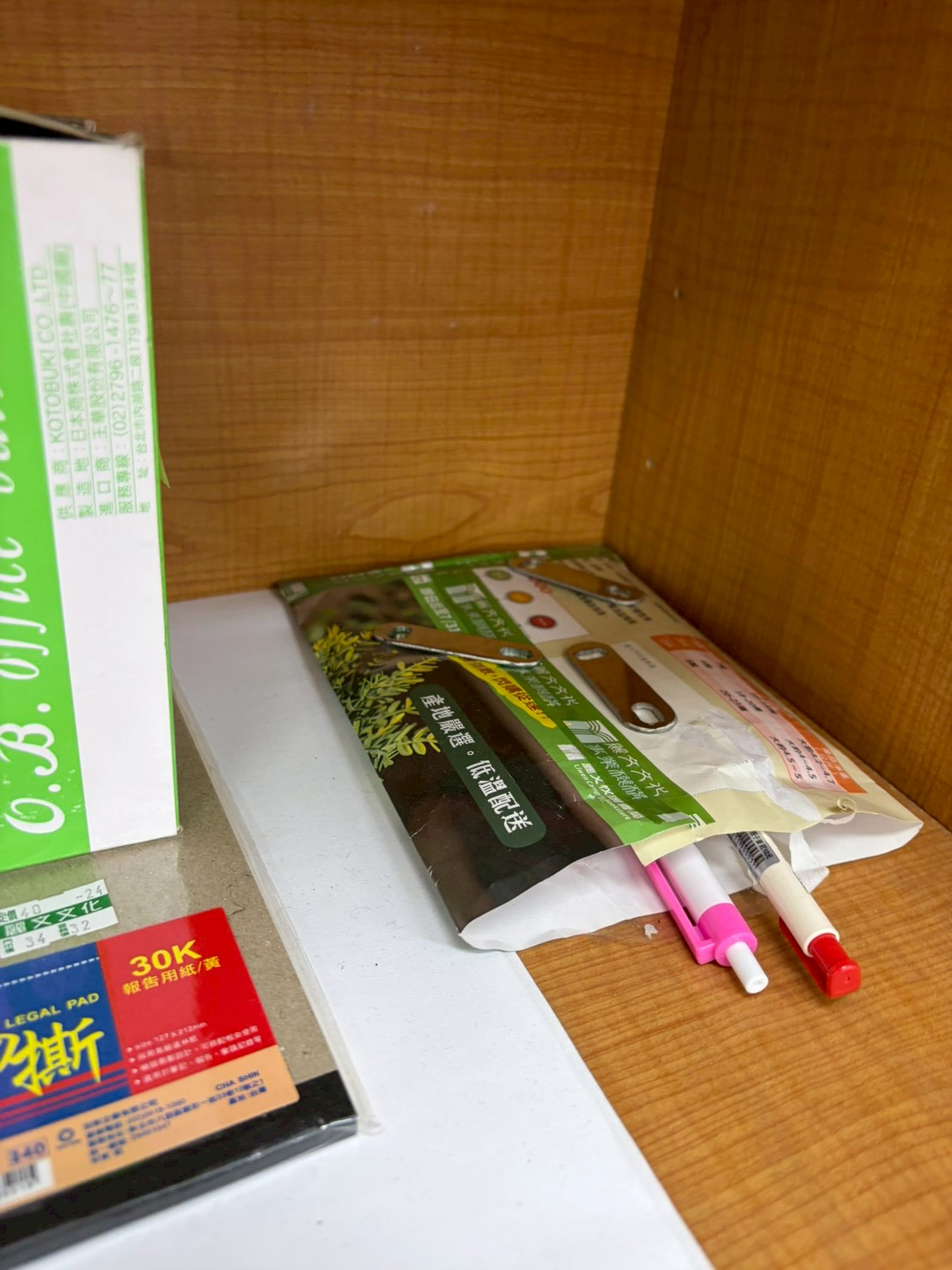Fe: (358, 604, 540, 668), (561, 638, 669, 740), (508, 531, 637, 599)
